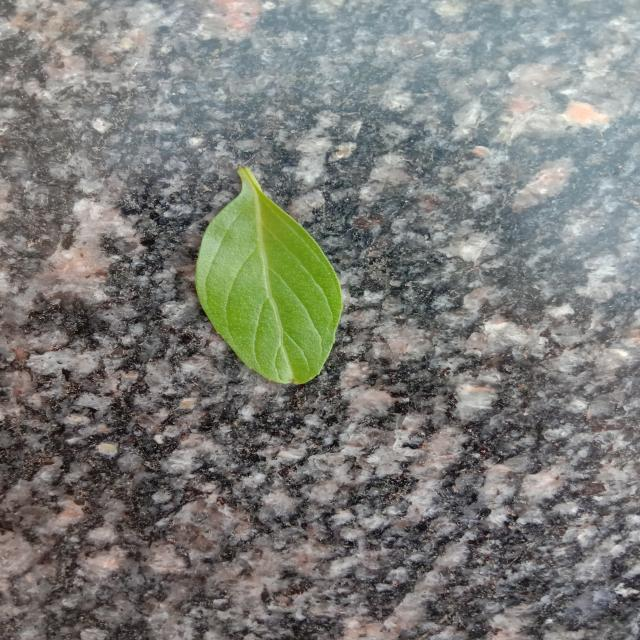kamakasturi: (195, 168, 343, 384)
